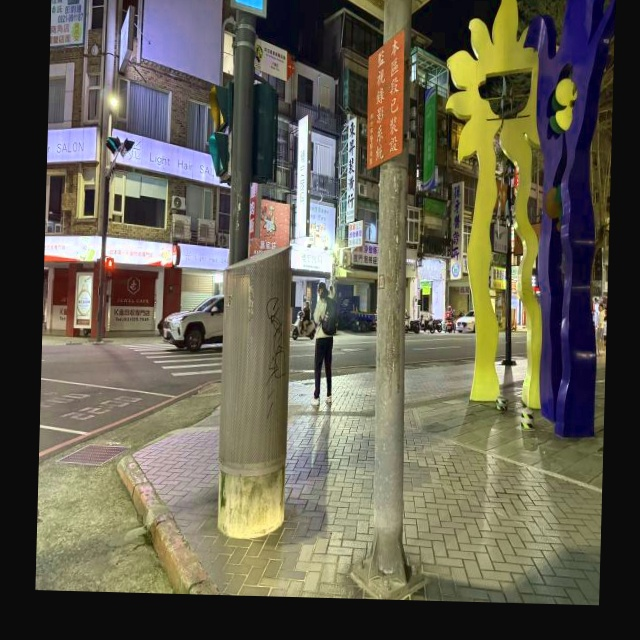Sin_Casco_Mascarrilla: (318, 282, 328, 297)
